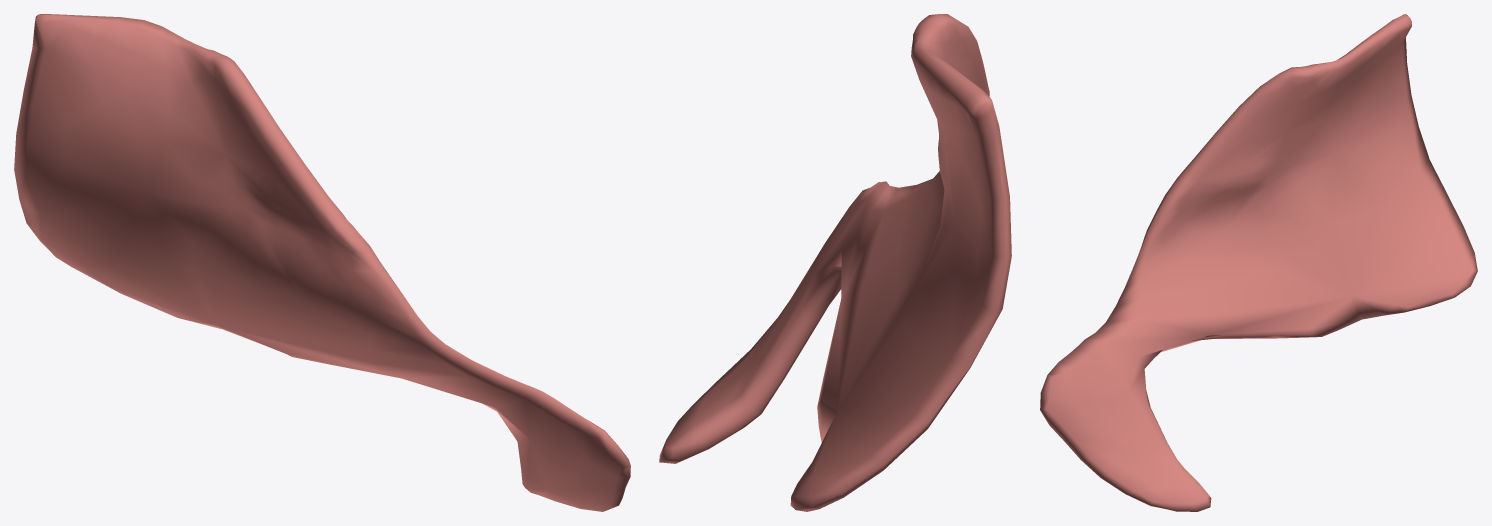
3 views of the same model, side by side, from view 1: azimuth 30°, elevation 25°; view 2: azimuth 150°, elevation 25°; view 3: azimuth 270°, elevation 25° (orthographic). The views are drawn at different scales.
Parts seen in each view (by area): view 1: ZA_4b2a74df479e4cc4; view 2: ZA_4b2a74df479e4cc4; view 3: ZA_4b2a74df479e4cc4.
Part boxes in pixels (x1,y1,x2,y2): ZA_4b2a74df479e4cc4: (14,14,630,511); ZA_4b2a74df479e4cc4: (659,14,1011,511); ZA_4b2a74df479e4cc4: (1040,14,1477,511).
Bounding box in the file's own units: 0.0101 × 0.011 × 0.0123.
